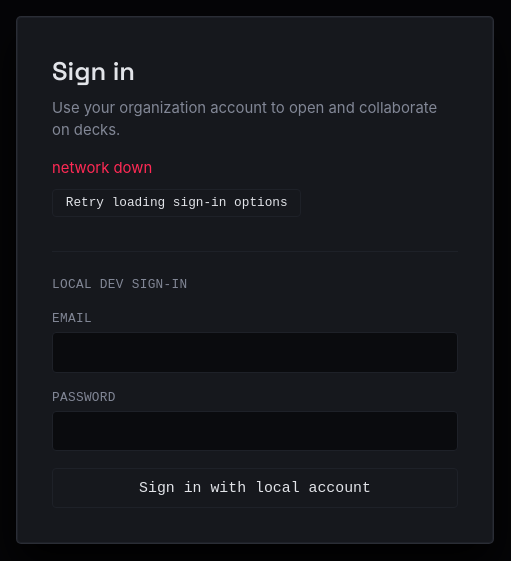
Test case: LoginPage › shows local sign-in when auth config fails and allows retry
Expected: the text "network down" is shown, [52, 159, 152, 177]
Expected: the button "Sign in with local account" is shown, [52, 468, 458, 508]
What coordinates should you click on to do the following:
click the button "Retry loading sign-in options"
I would click on:
 (177, 203)
Its box is [52, 189, 301, 217].
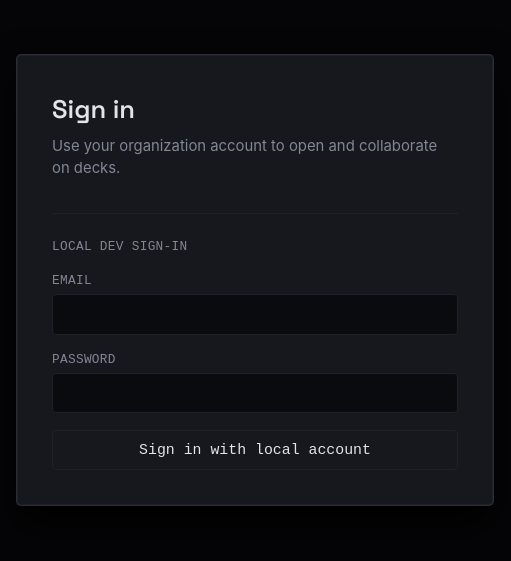
Result: the text "network down" is gone
